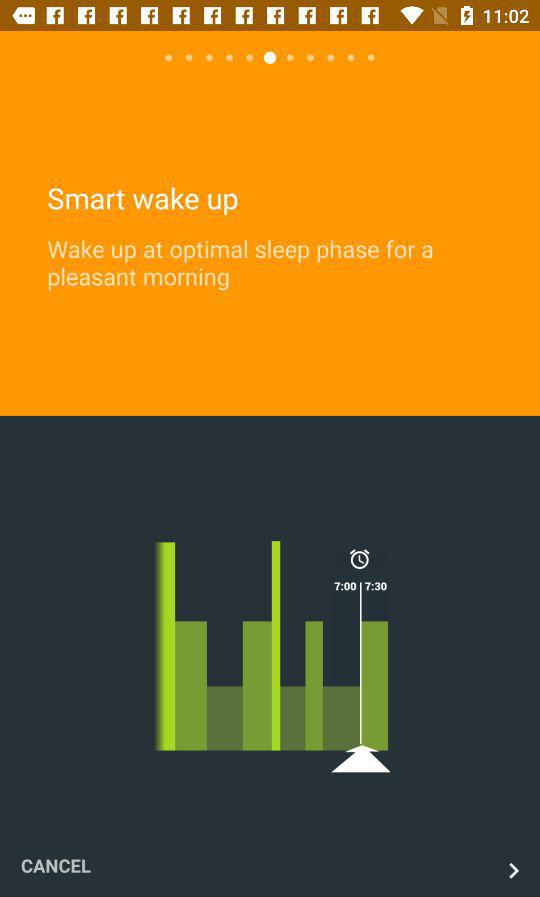Icon: (508, 862, 520, 880)
Image: (154, 541, 392, 773)
PageIndicator: (164, 50, 377, 67)
Text: (47, 239, 433, 292), (48, 186, 239, 217), (22, 857, 92, 874)
UpperTaskBar: (1, 1, 540, 33)
